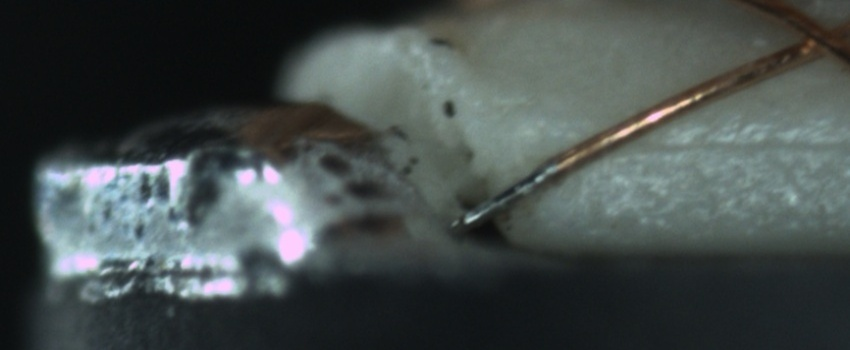CL: (774, 5, 848, 67)
DL: (570, 113, 847, 177)
TS: (455, 158, 557, 231)
